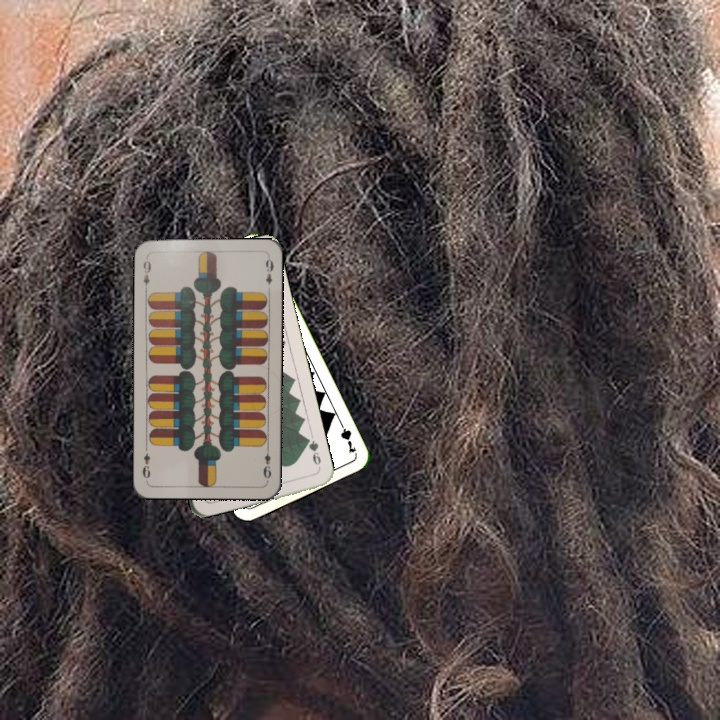E9: (139, 253, 154, 294), (259, 442, 274, 481)
G7: (335, 417, 359, 456)
G9: (302, 434, 323, 473)
